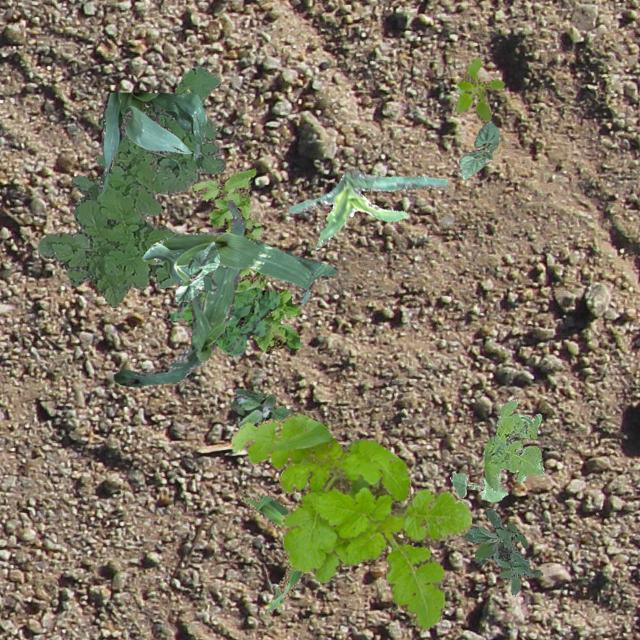crop: (112, 198, 244, 386), (142, 230, 336, 304), (286, 168, 448, 246), (98, 91, 206, 192), (236, 492, 302, 612), (174, 240, 218, 300), (458, 120, 498, 178), (449, 472, 506, 501)
weed: (228, 412, 471, 630), (36, 64, 225, 306), (190, 168, 300, 352), (163, 284, 280, 354), (458, 508, 542, 594), (484, 398, 544, 492), (452, 58, 504, 120), (230, 388, 294, 427)
